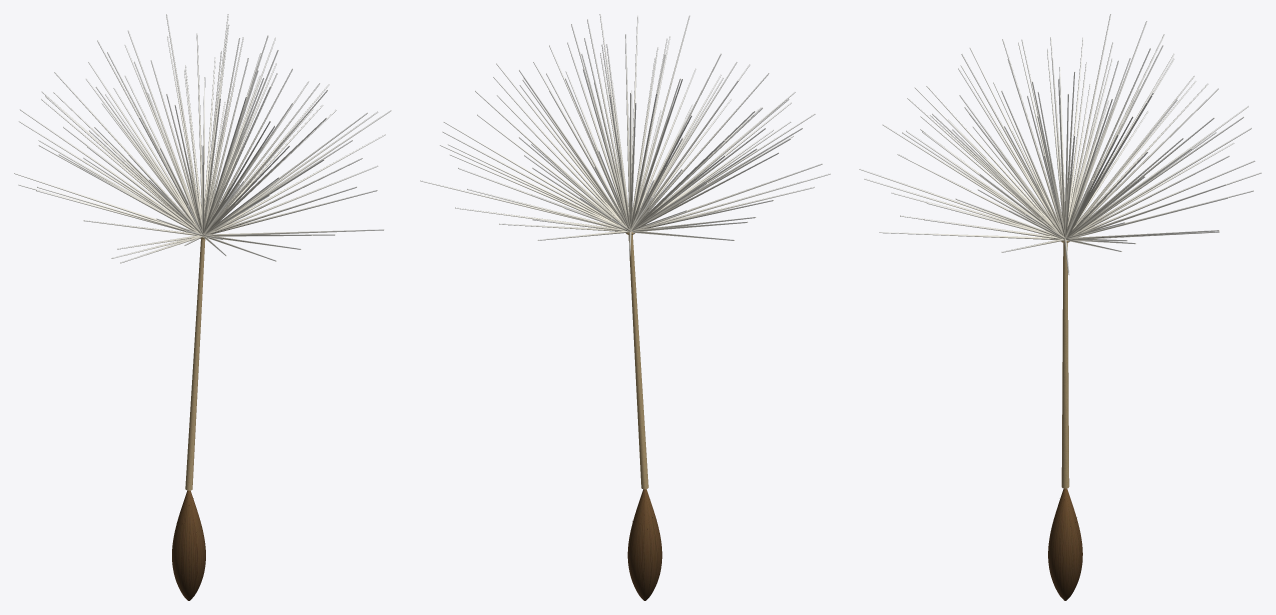
Rendered from dandelion-seed.glb.
3 renders of one model, left to right at view 1: azimuth 30°, elevation 25°; view 2: azimuth 150°, elevation 25°; view 3: azimuth 270°, elevation 25°, orthographic.
Parts seen in each view (by area): view 1: achene, beak; view 2: achene, beak; view 3: achene, beak.
Boxes of the visible parts, x1,y1,x2,y2 form: achene: (172, 490, 205, 600); beak: (185, 239, 205, 490); achene: (627, 489, 662, 600); beak: (628, 235, 648, 489); achene: (1048, 488, 1082, 600); beak: (1061, 243, 1069, 488).
Size of the model in its own units: 1.28 by 1.98 by 1.29.
Materials: 4 (3 with a texture image).
